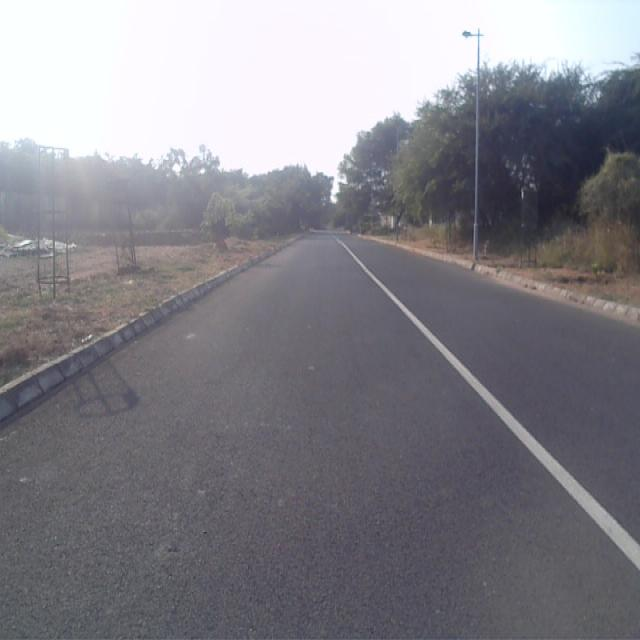lane: (0, 235, 640, 640)
